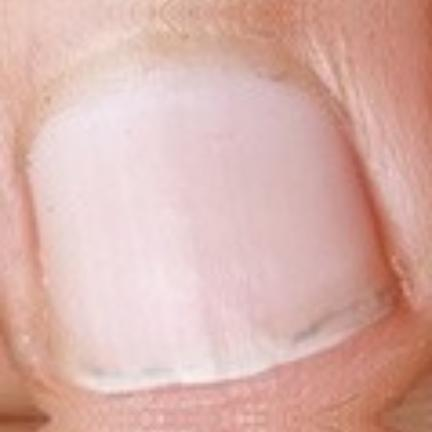Nail: (24, 47, 397, 395)
